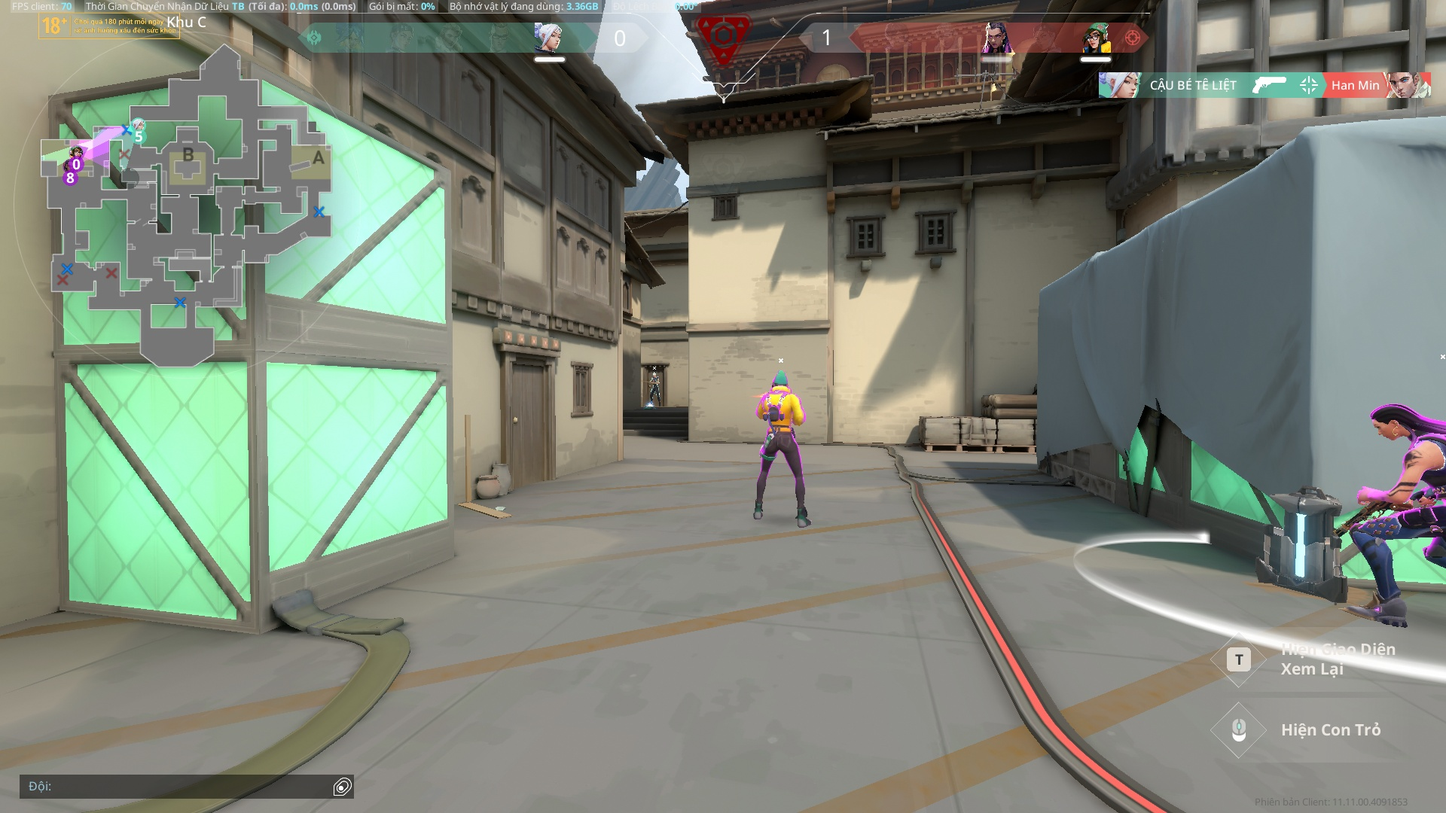body: (1405, 437, 1443, 495), (757, 388, 804, 429)
head: (1371, 406, 1418, 443), (772, 375, 790, 391)
